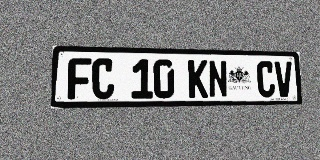0: (153, 59, 174, 98)
1: (132, 59, 153, 99)
C: (92, 58, 114, 99), (256, 61, 275, 97)
F: (68, 58, 91, 99)
K: (188, 60, 208, 98)
N: (208, 60, 228, 98)
V: (274, 61, 293, 97)
